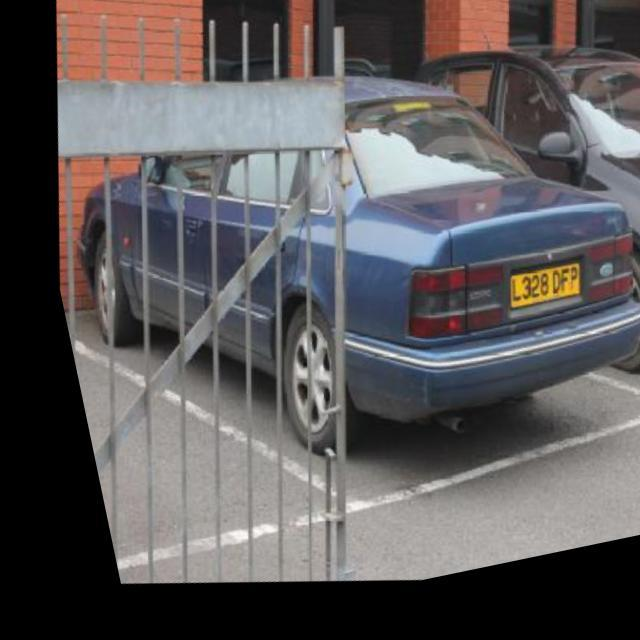license_plate: (488, 272, 571, 339)
